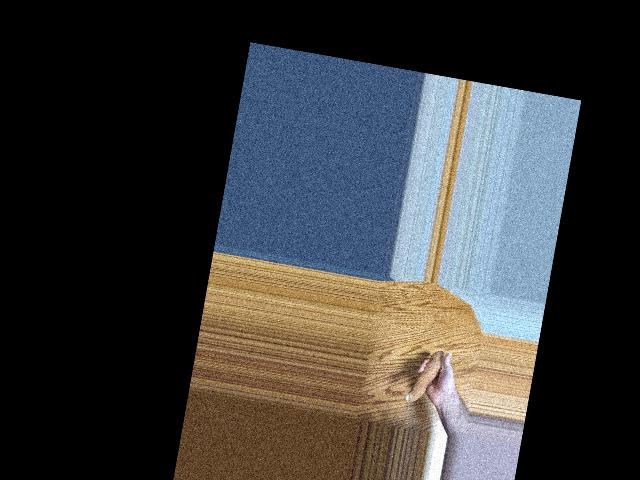sweet_potato: (405, 344, 444, 407)
